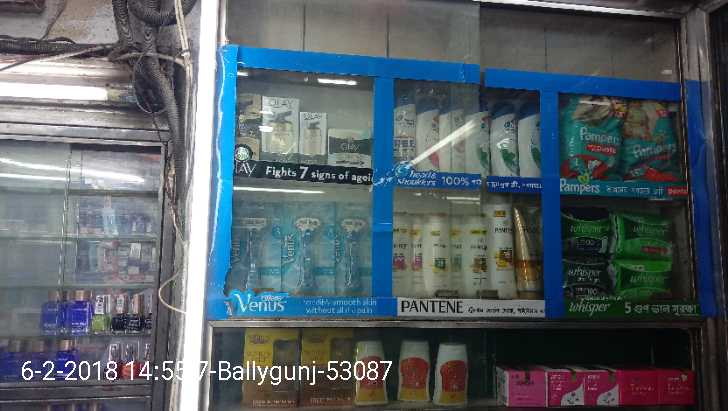venus: (281, 203, 335, 294), (233, 203, 281, 293), (335, 203, 375, 294)
